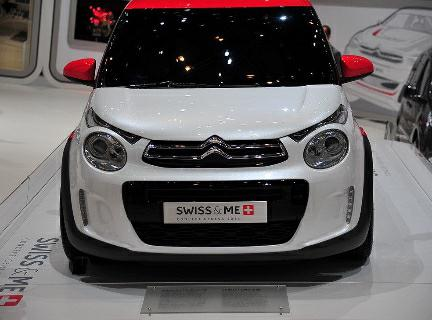雪铁龙-C1: (56, 2, 380, 289)
